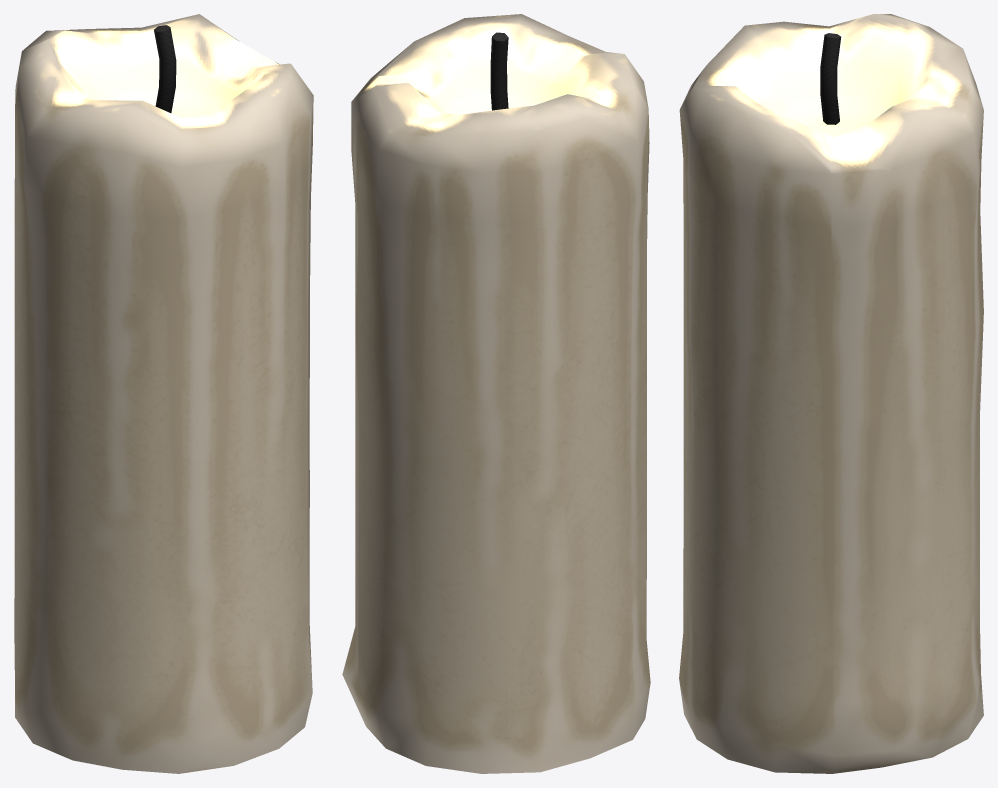
The model's file is SM_Candle2.fbx.
The picture shows the model from 3 angles, left to right: view 1: azimuth 30°, elevation 25°; view 2: azimuth 150°, elevation 25°; view 3: azimuth 270°, elevation 25°; orthographic projection.
Visible parts, largest first — view 1: SM_Candle2_LOD0; view 2: SM_Candle2_LOD0; view 3: SM_Candle2_LOD0.
Part boxes in pixels (left/top/right/bottom): SM_Candle2_LOD0: left=14, top=14, right=313, bottom=773; SM_Candle2_LOD0: left=342, top=14, right=650, bottom=773; SM_Candle2_LOD0: left=679, top=14, right=983, bottom=773.
Bounding box in the file's own units: 15.13 × 14.44 × 35.62.
1 material, 1 textured.
